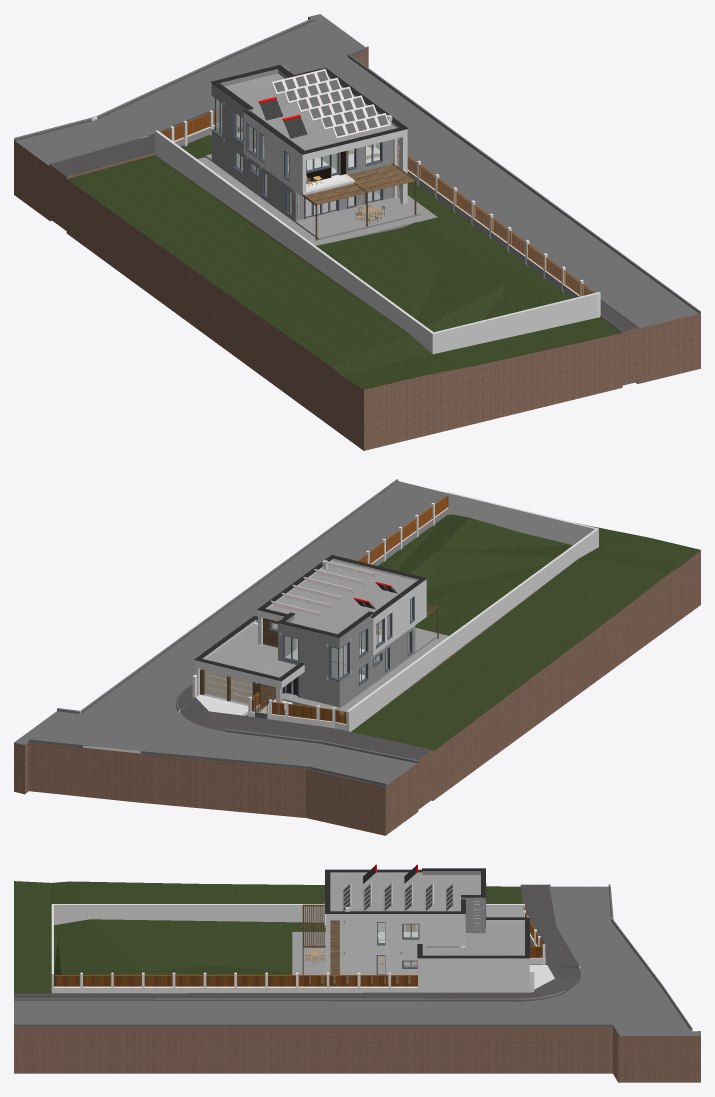
3 renders of one model, top to bottom at view 1: azimuth 30°, elevation 25°; view 2: azimuth 150°, elevation 25°; view 3: azimuth 270°, elevation 25°, orthographic. The views are drawn at different scales.
Visible parts, largest first — view 1: TR_-_002_6, TR_-_002_7, TR_-_002_5, SW_-_024_17, TR_-_002_8, SW_-_024_18, SLA032_12, SW_-_019_13, SW_-_021_50, SW_-_026_11, SW_-_028_8, RT_-_029_13 (+7 smaller); view 2: TR_-_002_7, TR_-_002_6, TR_-_002_5, SW_-_024_17, TR_-_002_8, SW_-_024_18, SW_-_019_13, RT_-_029_13, SW_-_026_11, RT_-_029_20, SW_-_021_49, SW_-_021_50 (+11 smaller); view 3: TR_-_002_7, TR_-_002_5, TR_-_002_6, TR_-_002_8, SW_-_024_17, SW_-_019_18, SW_-_021_48, SW_-_028_8, SW_-_019_10, SW_-_026_11, SW_-_025_10, RT_-_029_13 (+16 smaller).
Boxes of the visible parts, x1,y1,x2,y2 form: TR_-_002_6: [66, 155, 622, 450]; TR_-_002_7: [14, 14, 700, 383]; TR_-_002_5: [161, 135, 572, 335]; SW_-_024_17: [155, 130, 435, 354]; TR_-_002_8: [50, 107, 637, 385]; SW_-_024_18: [434, 292, 597, 353]; SLA032_12: [295, 197, 420, 239]; SW_-_019_13: [211, 130, 296, 221]; SW_-_021_50: [243, 118, 306, 192]; SW_-_026_11: [347, 54, 700, 314]; SW_-_028_8: [407, 170, 579, 298]; RT_-_029_13: [253, 95, 393, 145]; TR_-_002_7: [14, 481, 446, 835]; TR_-_002_6: [351, 522, 700, 800]; TR_-_002_5: [246, 514, 579, 725]; SW_-_024_17: [346, 528, 598, 731]; TR_-_002_8: [178, 684, 432, 809]; SW_-_024_18: [448, 492, 596, 544]; SW_-_019_13: [338, 625, 415, 707]; RT_-_029_13: [288, 568, 407, 615]; SW_-_026_11: [79, 479, 398, 713]; RT_-_029_20: [205, 639, 296, 677]; SW_-_021_49: [278, 629, 340, 671]; SW_-_021_50: [373, 585, 426, 651]; TR_-_002_7: [14, 886, 700, 1082]; TR_-_002_5: [54, 919, 542, 986]; TR_-_002_6: [14, 881, 522, 993]; TR_-_002_8: [14, 884, 580, 998]; SW_-_024_17: [51, 904, 524, 925]; SW_-_019_18: [418, 965, 529, 992]; SW_-_021_48: [342, 920, 465, 946]; SW_-_028_8: [51, 986, 417, 993]; SW_-_019_10: [343, 946, 425, 977]; SW_-_026_11: [14, 1024, 613, 1026]; SW_-_025_10: [14, 998, 519, 1001]; RT_-_029_13: [343, 873, 422, 911].
Size of what is drawn, in the model's own units: 34.43 by 13.27 by 66.87.
71 materials, 39 textured.
